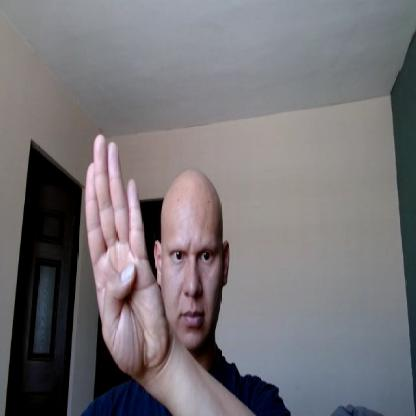B: (85, 134, 168, 382)
